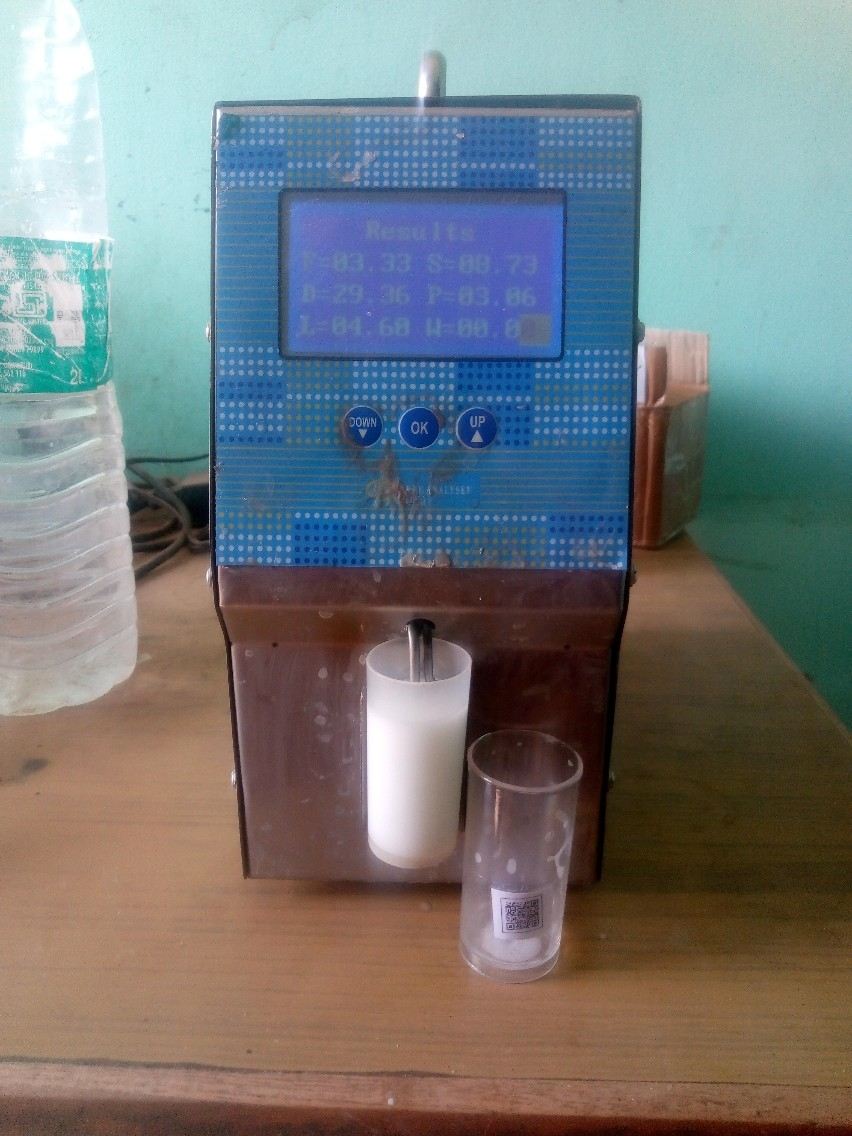lcd: (267, 180, 574, 375)
qr: (486, 887, 559, 940)
